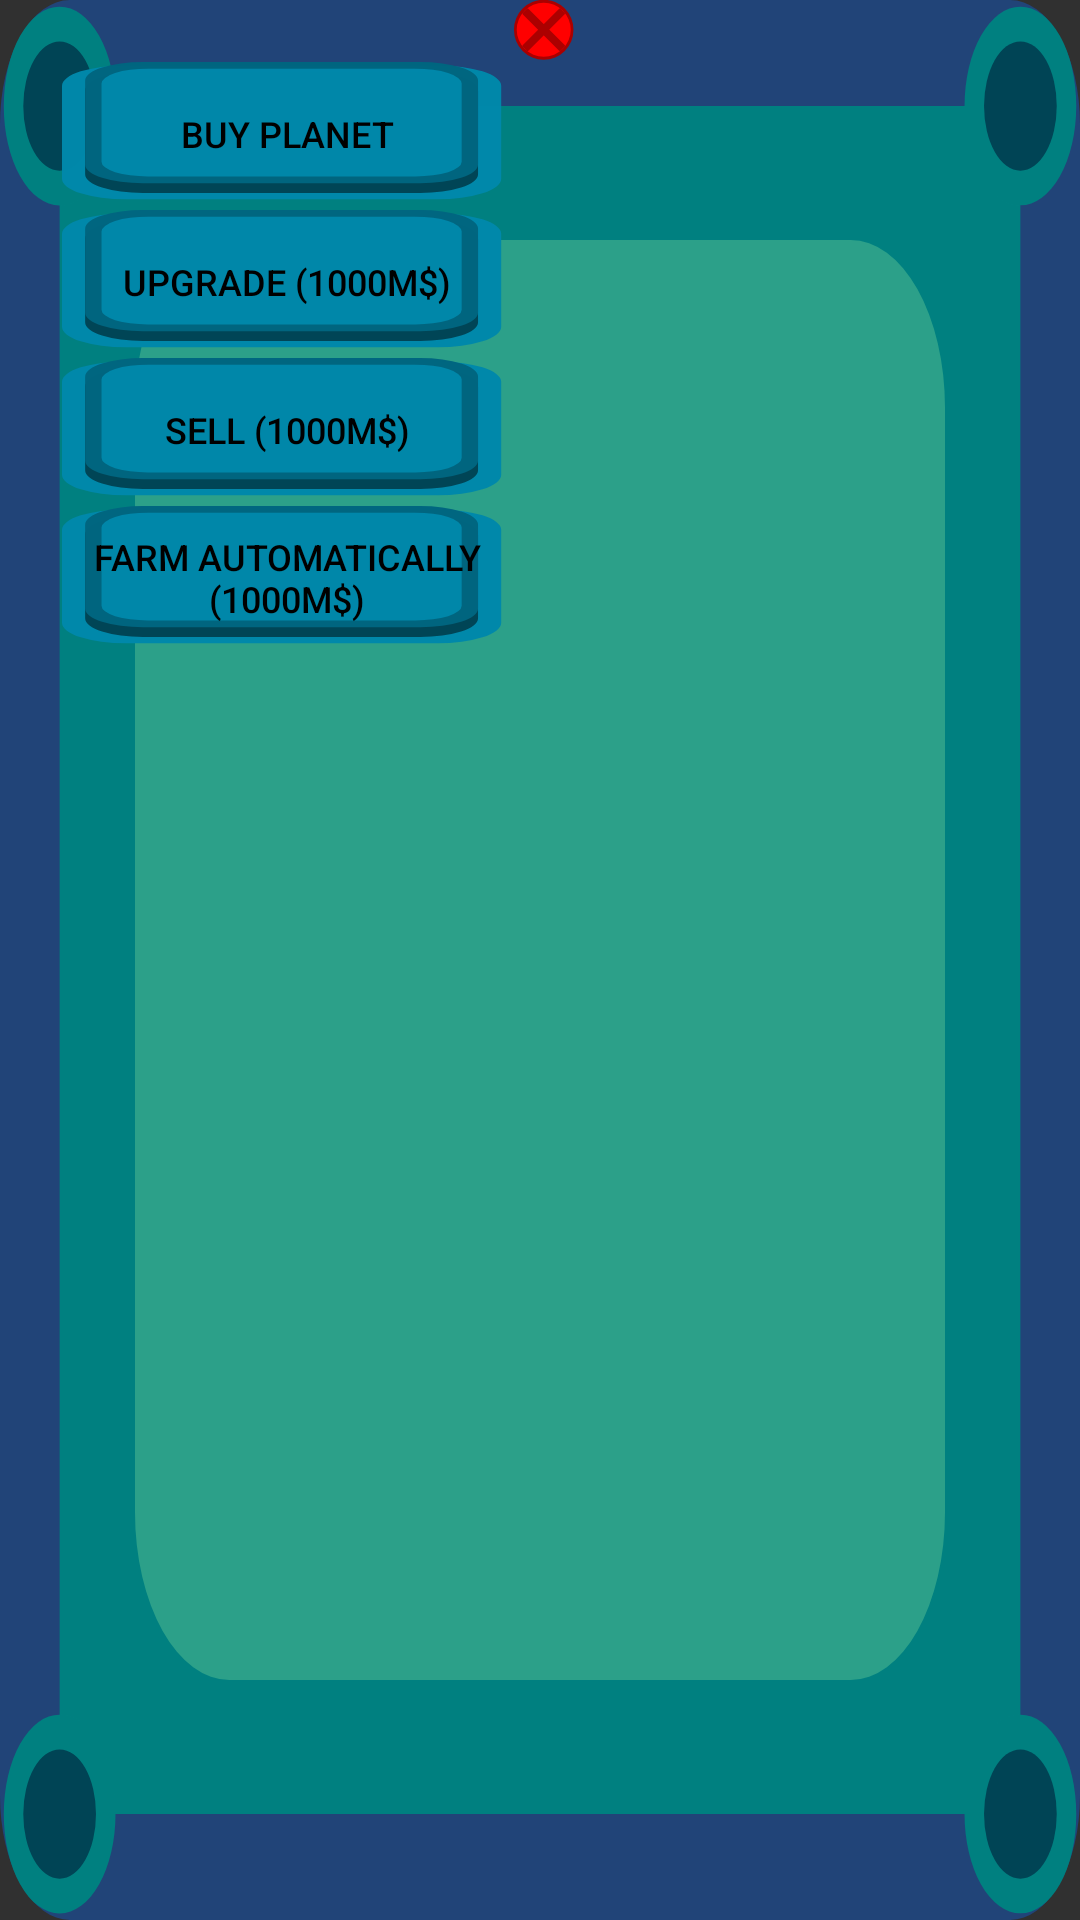

Where to tap for icons on this 1080 x 1920 app screen, as point (x, y):
closebutton: point (544, 30)
